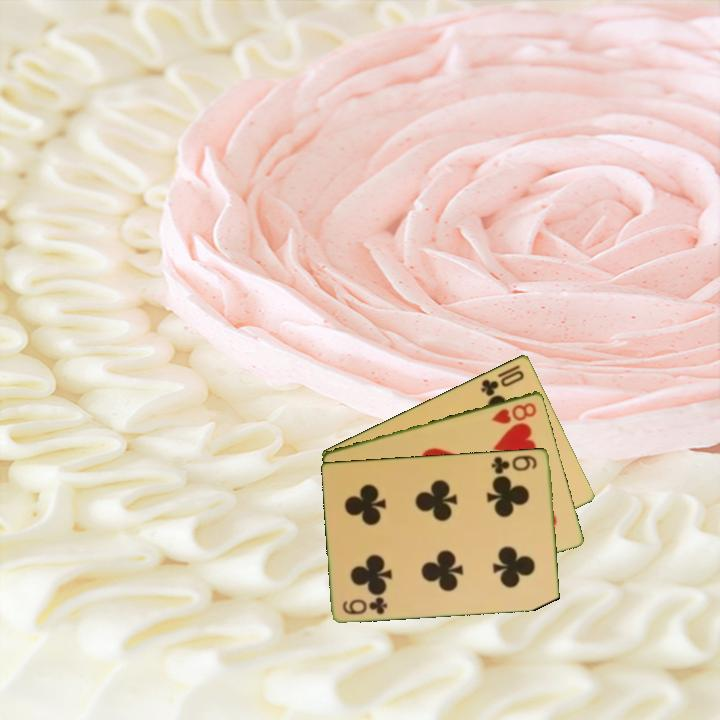10c: (477, 366, 527, 399)
6c: (488, 451, 540, 476), (339, 594, 391, 617)
8h: (489, 398, 539, 426)
